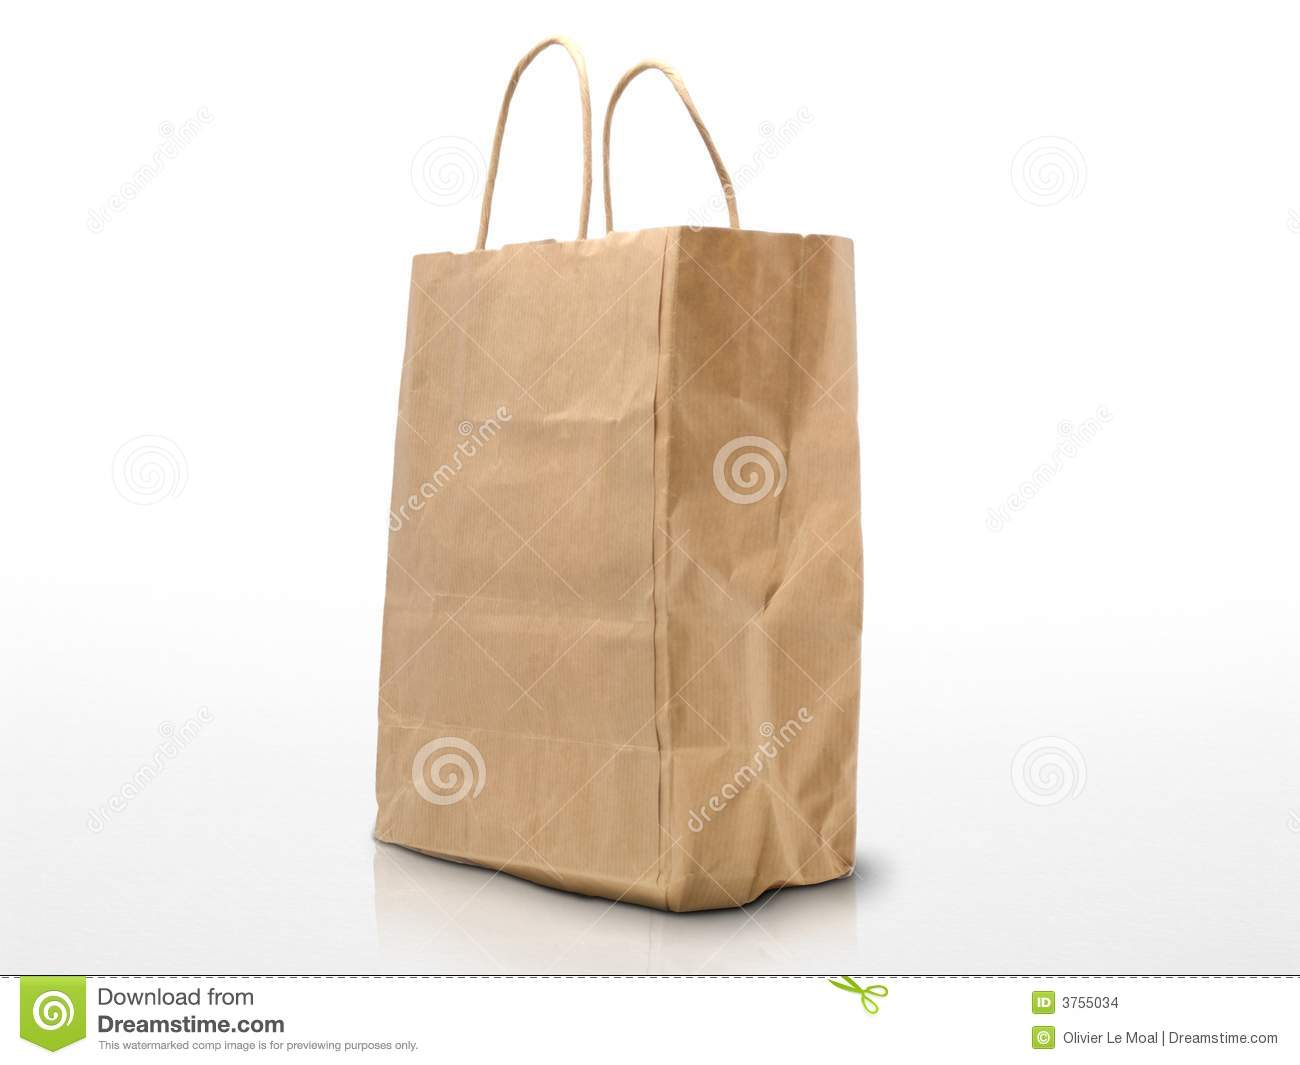flexible: (369, 35, 874, 911)
